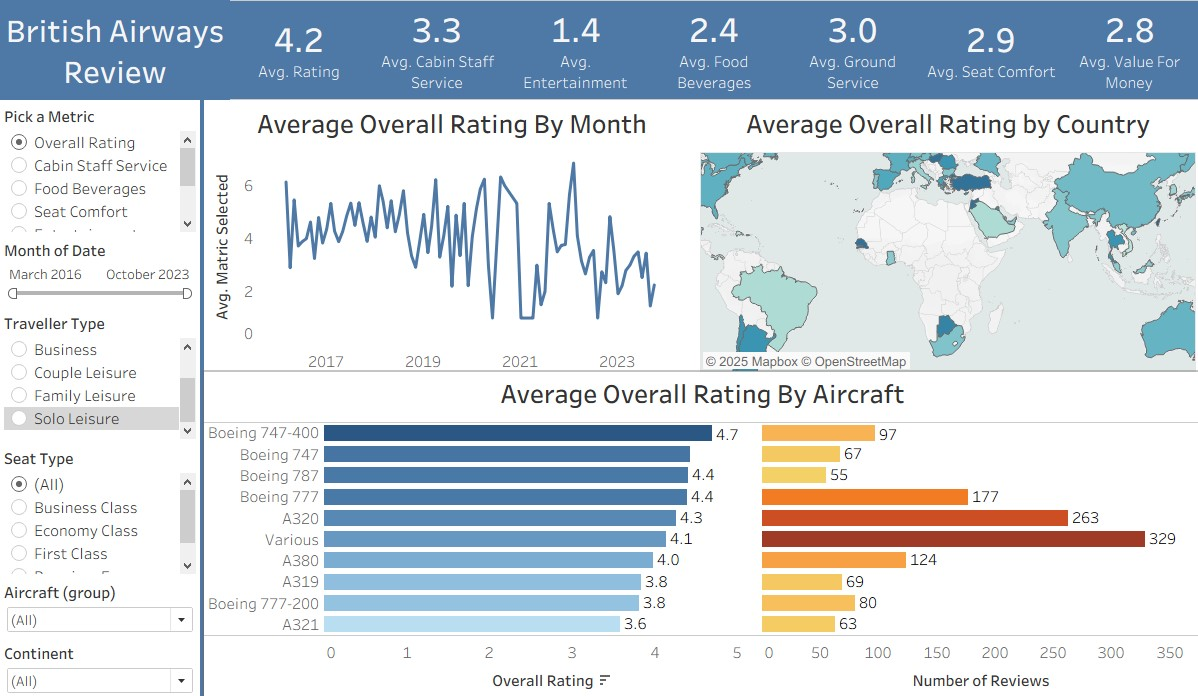

The page's visual inventory and layout, read from the dashboard file:
{"tool":"tableau","page":{"name":"Dashboard 1","canvas":[1200,700],"ordinal":0},"visuals":[{"type":"text","box":[0,0,230,100]},{"type":"worksheet","title":"Summary","mark":"Automatic","box":[230,0,970,100]},{"type":"blank","box":[200,100,4,600]},{"type":"parameter","param":"[Parameters].[Parameter 1]","box":[0,102,200,134.3]},{"type":"worksheet","title":"Month","mark":"Automatic","rows":["Calculation_1095500637258031104"],"cols":["date"],"box":[204,102,496,270]},{"type":"worksheet","title":"Map","mark":"Automatic","box":[700,102,496,270]},{"type":"filter","title":"Map","param":"[federated.1knejw916da5cd1g3drcd0ql1g9a].[tmn:date:qk]","box":[0,236.3,200,73]},{"type":"filter","title":"Map","param":"[federated.1knejw916da5cd1g3drcd0ql1g9a].[none:traveller_type:nk]","box":[0,309.3,200,134.3]},{"type":"worksheet","title":"Aircraft","mark":"Automatic","cols":["Calculation_1095500637258031104","ba_reviews.csv_E4FE4ABD83744F19916DD0F78A0A8D20"],"box":[204,372,997,327]},{"type":"filter","title":"Map","param":"[federated.1knejw916da5cd1g3drcd0ql1g9a].[none:seat_type:nk]","box":[0,443.7,200,134.3]},{"type":"filter","title":"Map","param":"[federated.1knejw916da5cd1g3drcd0ql1g9a].[Aircraft (group)]","box":[0,578,200,61]},{"type":"filter","title":"Map","param":"[federated.1knejw916da5cd1g3drcd0ql1g9a].[none:Continent:nk]","box":[0,639,200,61]}]}

Visuals, with their boxes in screenshot pixels (x1, y1, x2, y2), scaled from the page's 1200x700 canvas onto the 1198x696 screenshot:
text: bbox=[0, 0, 230, 99]
"Summary" worksheet: bbox=[230, 0, 1197, 99]
blank: bbox=[200, 99, 204, 695]
parameter: bbox=[0, 101, 200, 235]
"Month" worksheet: bbox=[204, 101, 699, 370]
"Map" worksheet: bbox=[699, 101, 1194, 370]
"Map" filter: bbox=[0, 235, 200, 308]
"Map" filter: bbox=[0, 308, 200, 441]
"Aircraft" worksheet: bbox=[204, 370, 1197, 695]
"Map" filter: bbox=[0, 441, 200, 575]
"Map" filter: bbox=[0, 575, 200, 635]
"Map" filter: bbox=[0, 635, 200, 695]
